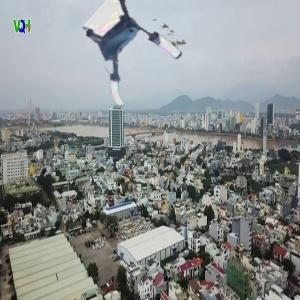drone: (77, 5, 175, 103)
